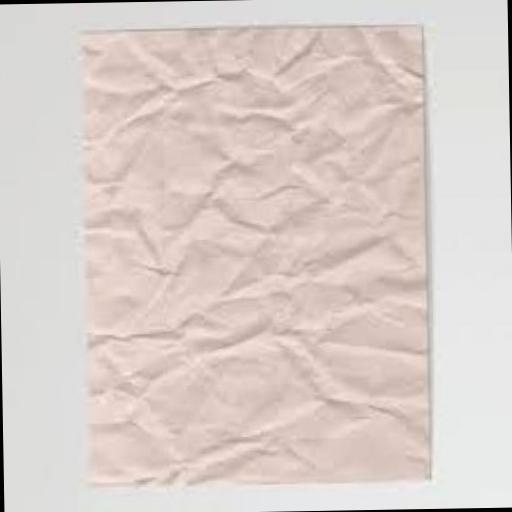paper: (86, 26, 436, 496)
